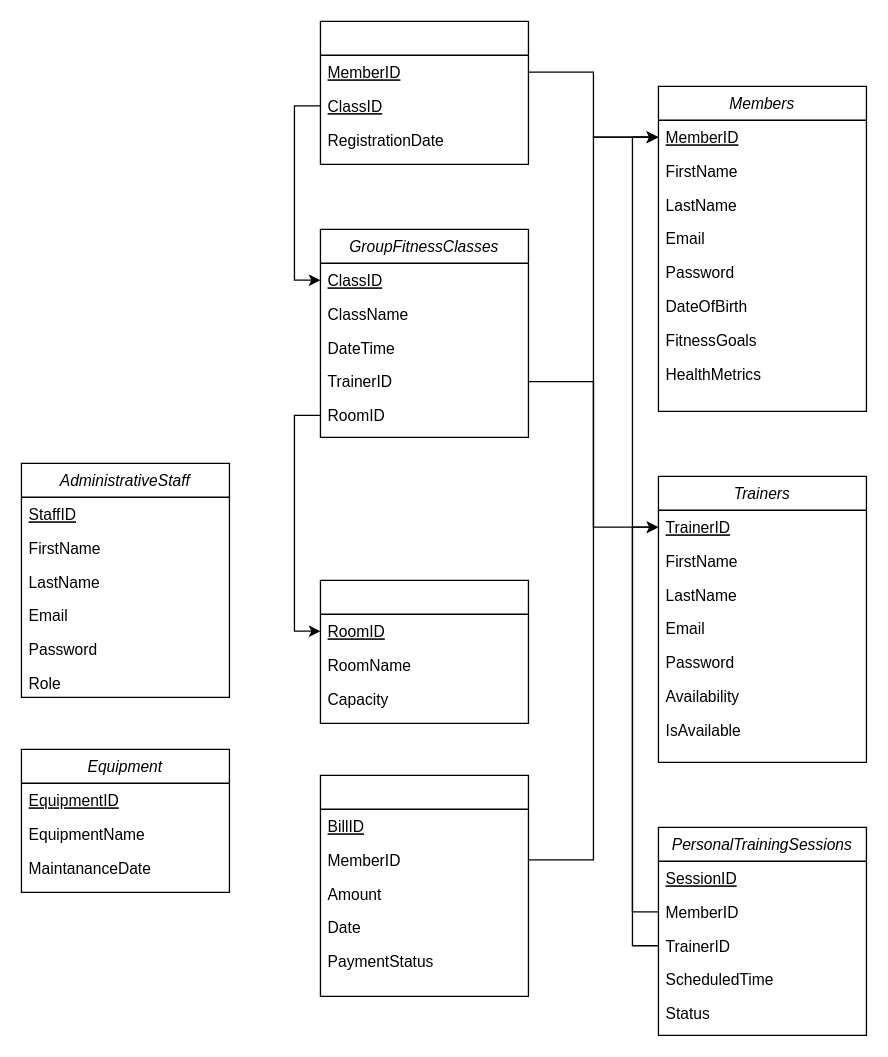
Image size: 888x1057. Some labels were removed from this diagram. Here are the shapes that lost their labels. From the top down, the box of each, then its label:
(319, 20, 528, 164): MemberGroupClasses
(319, 579, 528, 723): Rooms
(319, 774, 528, 996): Billing
